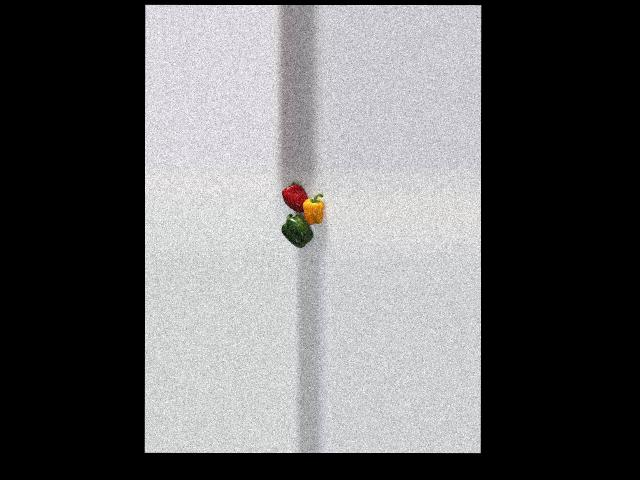bell_pepper: (298, 193, 326, 225)
